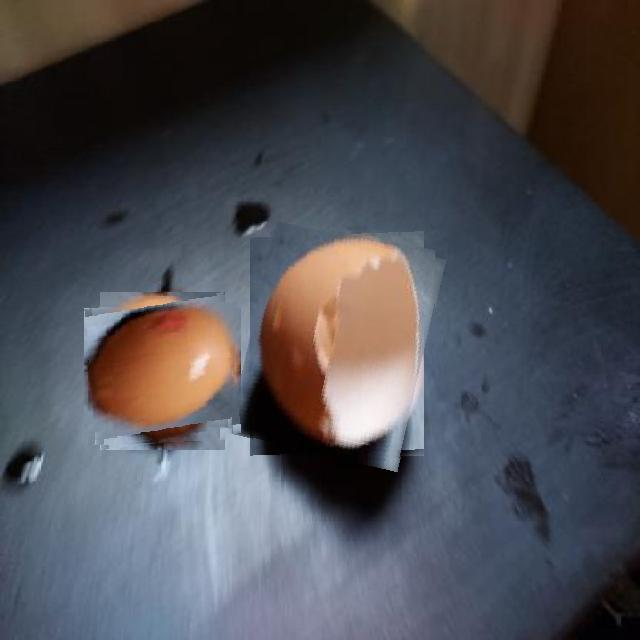biodegradable: (239, 230, 435, 464), (88, 296, 237, 446)
